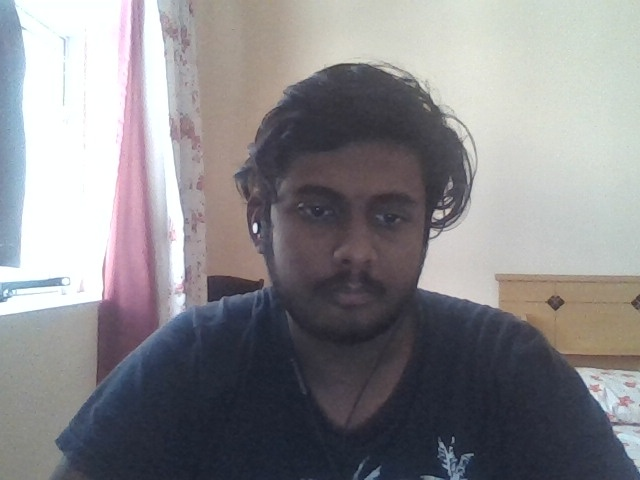thumbsup: (86, 124, 191, 315)
